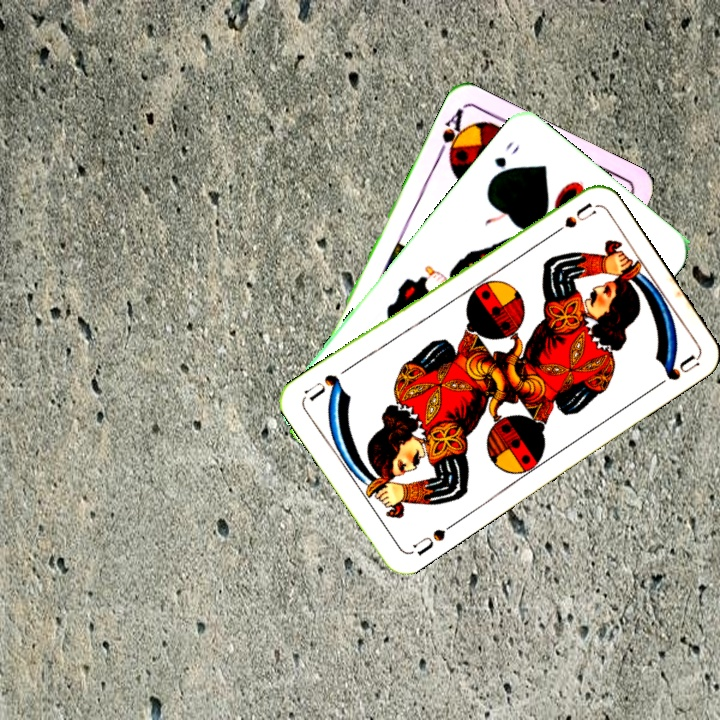GO: (485, 137, 523, 185)
SA: (433, 105, 471, 165)
SU: (543, 198, 598, 241), (408, 524, 448, 558)
